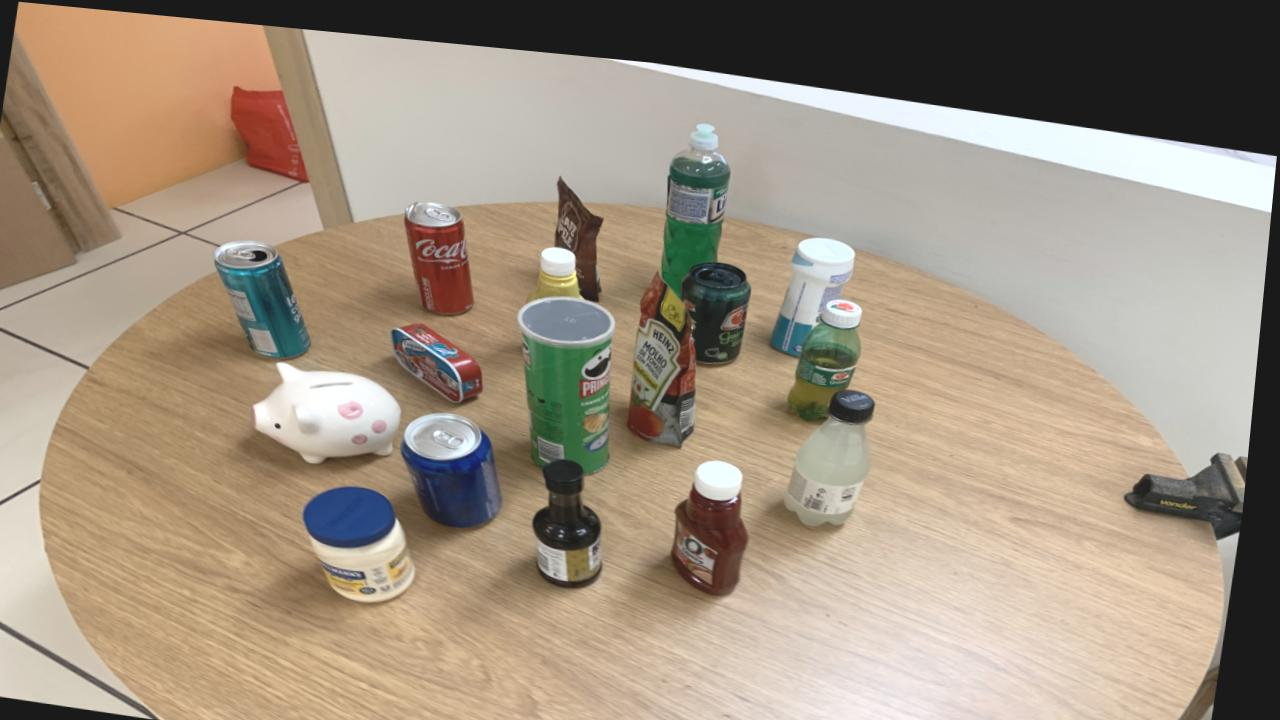Cleaner-Cleanup_Items: (775, 220, 858, 340)
Coffee-Pantry_Items: (557, 165, 606, 290)
Coke-Drinks: (407, 193, 479, 305)
Detergent-Cleanup_Items: (664, 109, 732, 281)
English_Sauce-Pantry_Items: (541, 447, 612, 575)
Guarana-Drinks: (793, 282, 866, 405)
Guarana_Can-Drinks: (686, 247, 754, 350)
Ketchup-Pantry_Items: (681, 445, 757, 579)
Mayonnaise-Pantry_Items: (312, 478, 426, 594)
Mustard-Pantry_Items: (532, 235, 586, 290)
Pig_Safe-Miscellaneous: (259, 355, 409, 457)
Pringles-Snacks: (522, 284, 621, 460)
Soda-Drinks: (792, 371, 881, 509)
Tea-Drinks: (218, 234, 317, 352)
Tomato_Sauce-Pantry_Items: (632, 259, 703, 433)
Tonic-Drinks: (408, 403, 511, 518)
Tuna_Can-Pantry_Items: (396, 314, 489, 393)
